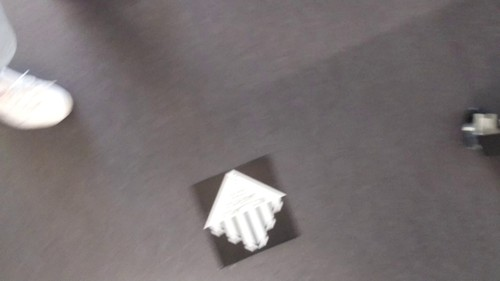misgoods: (202, 169, 291, 253)
